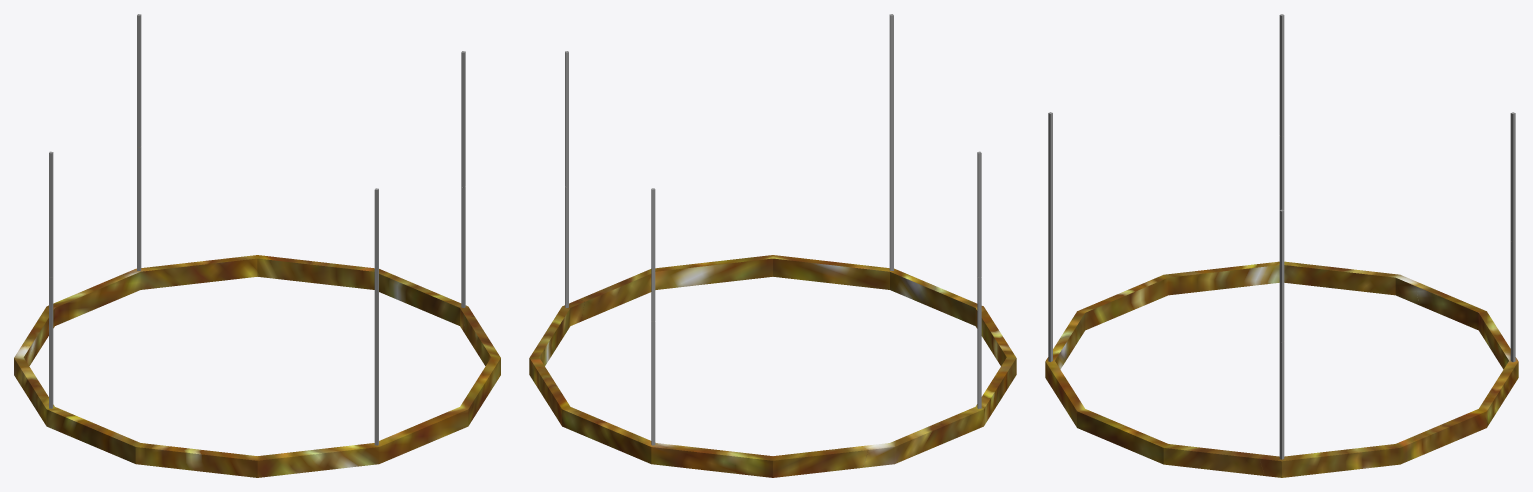
Rendered from Den_Tran_Fractured.fbx.
The picture shows the model from 3 angles, left to right: view 1: azimuth 30°, elevation 25°; view 2: azimuth 150°, elevation 25°; view 3: azimuth 270°, elevation 25°; orthographic projection. The views are drawn at different scales.
Visible parts, largest first — view 1: den_tran2.004_cell, den_tran2.004_cell.001, den_tran2_cell, den_tran2.002_cell.001, den_tran2.003_cell, den_tran2.001_cell.001, den_tran2.001_cell, den_tran2.003_cell.001, den_tran2.002_cell; view 2: den_tran2.004_cell, den_tran2.004_cell.001, den_tran2_cell, den_tran2.003_cell, den_tran2.001_cell.001, den_tran2.001_cell, den_tran2.003_cell.001, den_tran2.002_cell.001; view 3: den_tran2.004_cell, den_tran2.004_cell.001, den_tran2_cell, den_tran2.002_cell.001, den_tran2.003_cell, den_tran2.001_cell, den_tran2.003_cell.001, den_tran2.002_cell.
Boxes of the visible parts, x1,y1,x2,y2 form: den_tran2.004_cell: (14,316,500,477); den_tran2.004_cell.001: (21,255,474,360); den_tran2_cell: (374,188,378,445); den_tran2.002_cell.001: (461,51,465,187); den_tran2.003_cell: (137,14,141,147); den_tran2.001_cell.001: (49,277,53,408); den_tran2.001_cell: (49,151,53,277); den_tran2.003_cell.001: (137,146,141,270); den_tran2.002_cell: (461,186,465,307); den_tran2.004_cell: (579,255,1016,467); den_tran2.004_cell.001: (529,299,868,477); den_tran2_cell: (889,14,893,270); den_tran2.003_cell: (651,188,655,321); den_tran2.001_cell.001: (977,277,981,408); den_tran2.001_cell: (977,151,981,277); den_tran2.003_cell.001: (651,321,655,445); den_tran2.002_cell.001: (565,51,568,187); den_tran2.004_cell: (1045,261,1419,475); den_tran2.004_cell.001: (1260,283,1518,477); den_tran2_cell: (1048,112,1052,361); den_tran2.002_cell.001: (1279,209,1284,342); den_tran2.003_cell: (1510,112,1515,241); den_tran2.001_cell: (1279,14,1284,136); den_tran2.003_cell.001: (1510,241,1515,362); den_tran2.002_cell: (1279,342,1284,459).
Bounding box in the file's own units: 828 × 513 × 828.
